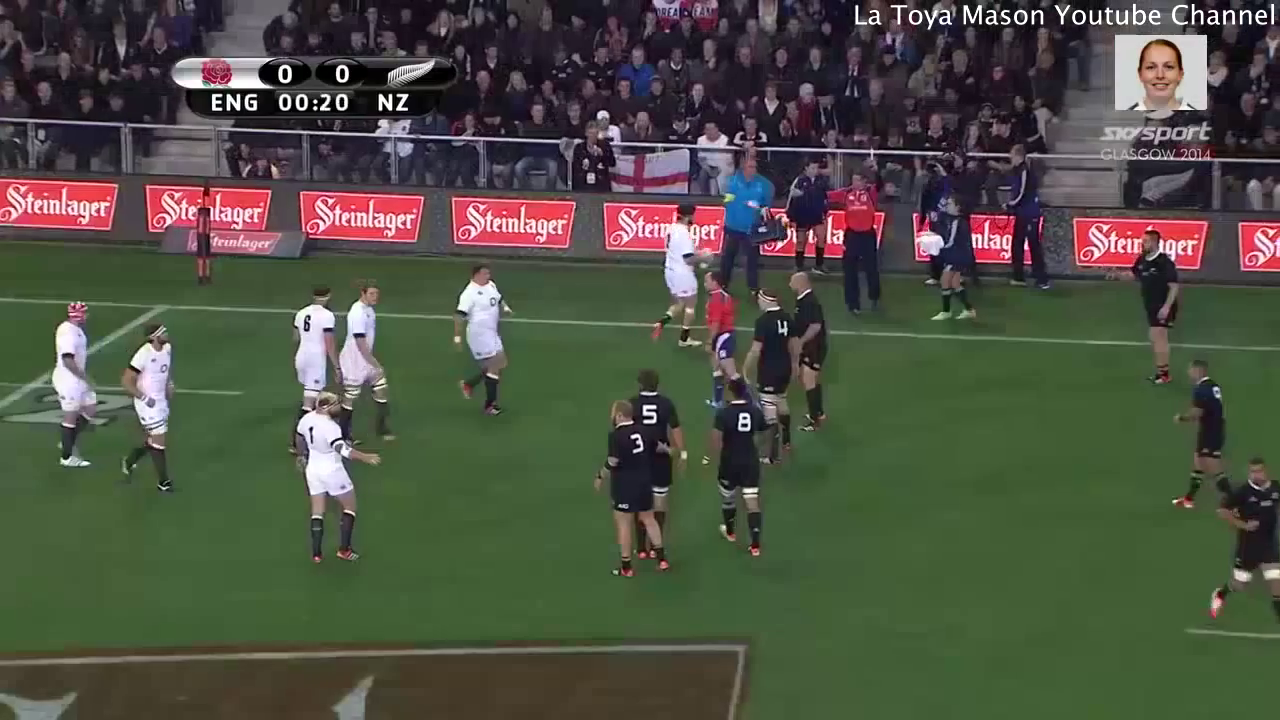ball: (684, 237, 724, 273)
player: (782, 144, 895, 326), (284, 386, 385, 572), (587, 392, 677, 587), (1192, 442, 1280, 633), (699, 145, 786, 324), (109, 318, 194, 500), (695, 368, 770, 569), (1102, 221, 1189, 389), (325, 272, 404, 452), (1157, 354, 1239, 520), (621, 366, 692, 556), (734, 281, 805, 469), (39, 295, 110, 478), (447, 259, 522, 421), (777, 264, 842, 446), (646, 196, 713, 353), (284, 279, 346, 448), (693, 267, 752, 422)
